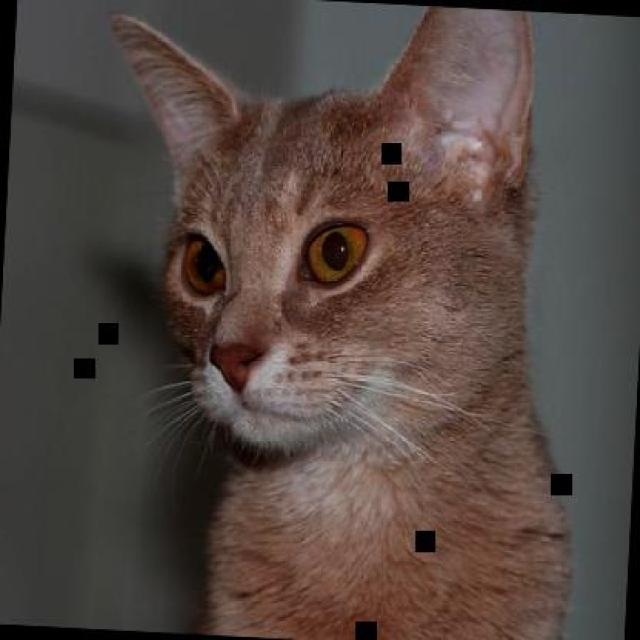cat: (75, 0, 602, 638)
